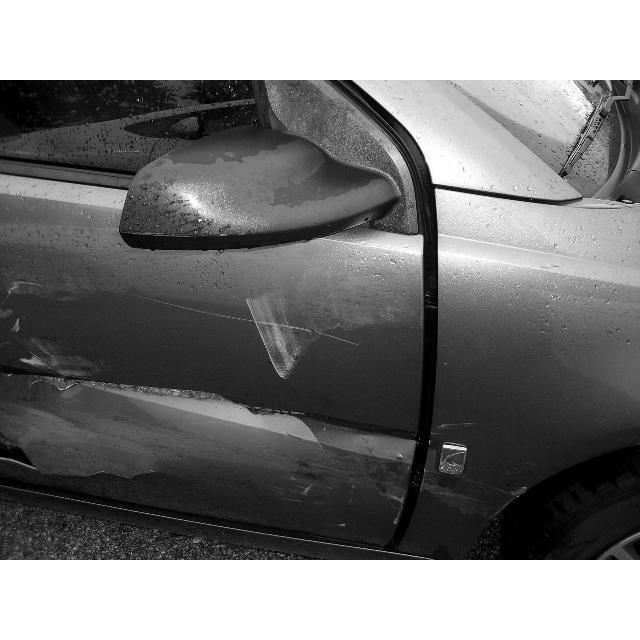doorouter-dent: (0, 154, 410, 525)
